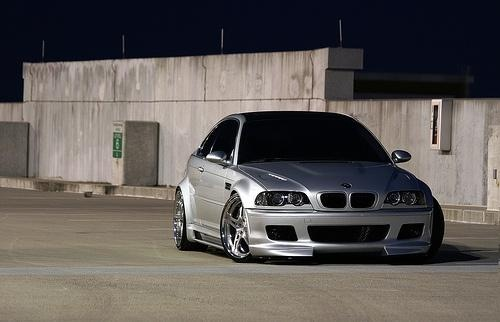car: (171, 110, 447, 262)
